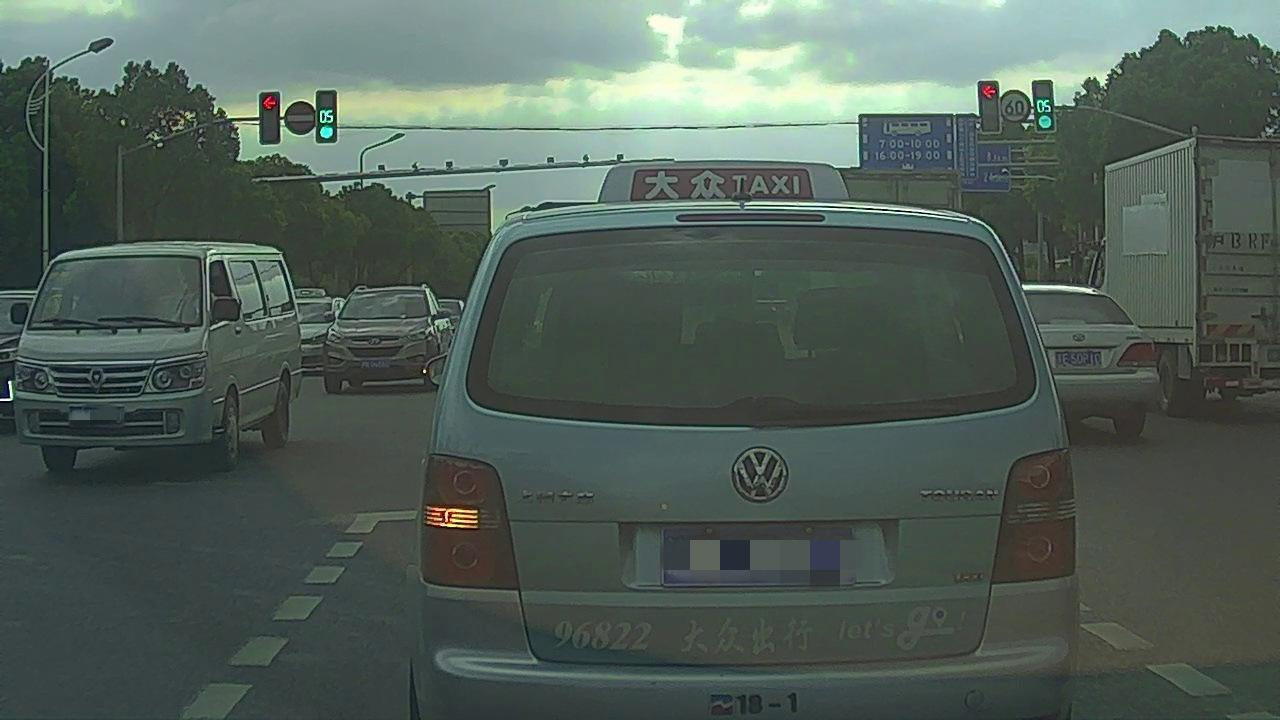traffic_light: (1031, 80, 1054, 132), (258, 91, 280, 144), (977, 80, 999, 132), (315, 90, 336, 143)
